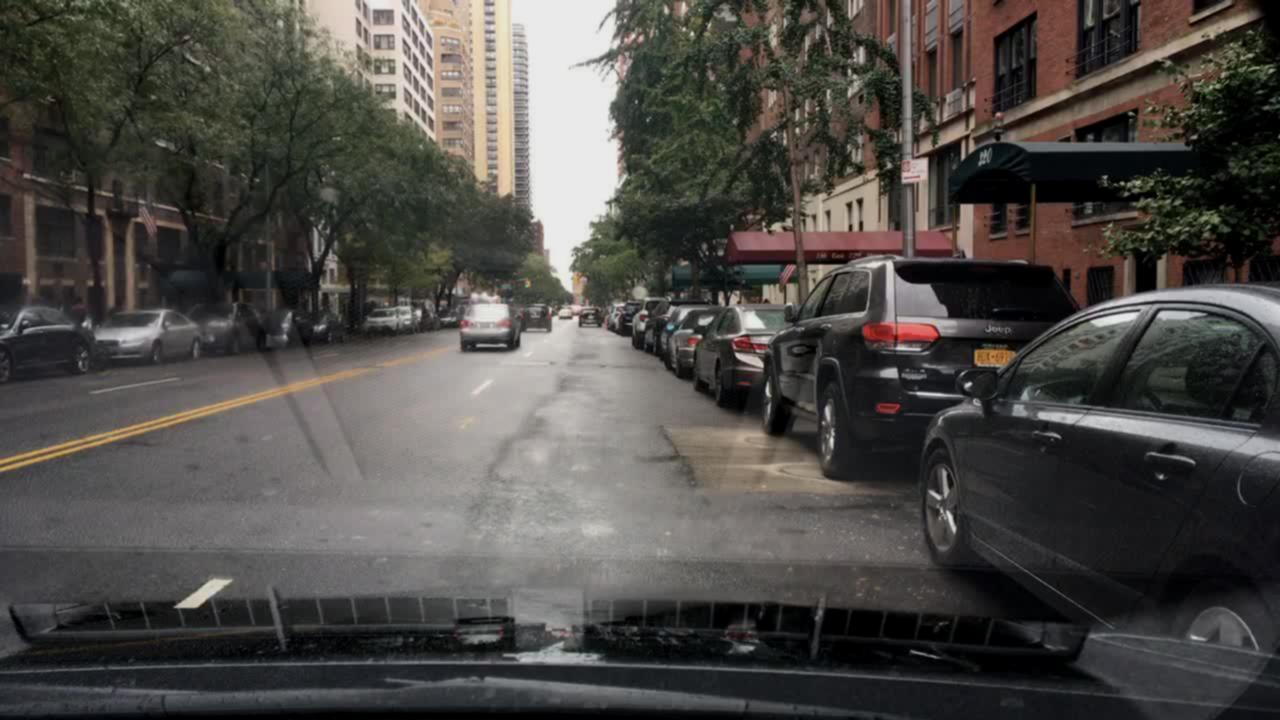jeep: (976, 319, 1016, 346)
